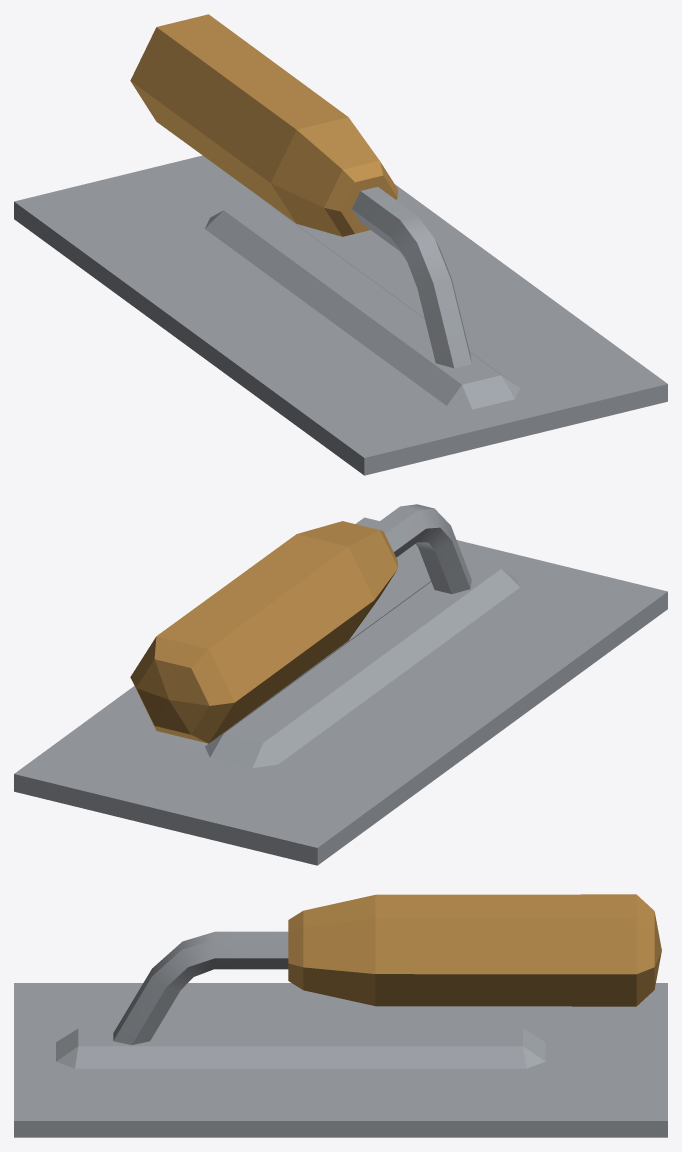
File: SM_Tool_Trowel_01.fbx
3 views of the same model, one above another, from view 1: azimuth 30°, elevation 25°; view 2: azimuth 150°, elevation 25°; view 3: azimuth 270°, elevation 25° (orthographic). The views are drawn at different scales.
Parts seen in each view (by area): view 1: SM_Tool_Trowel_01; view 2: SM_Tool_Trowel_01; view 3: SM_Tool_Trowel_01.
Boxes of the visible parts, x1,y1,x2,y2 form: SM_Tool_Trowel_01: [14, 14, 667, 475]; SM_Tool_Trowel_01: [14, 504, 667, 865]; SM_Tool_Trowel_01: [14, 894, 667, 1137].
Size of the model in its own units: 15 by 8.21 by 30.
